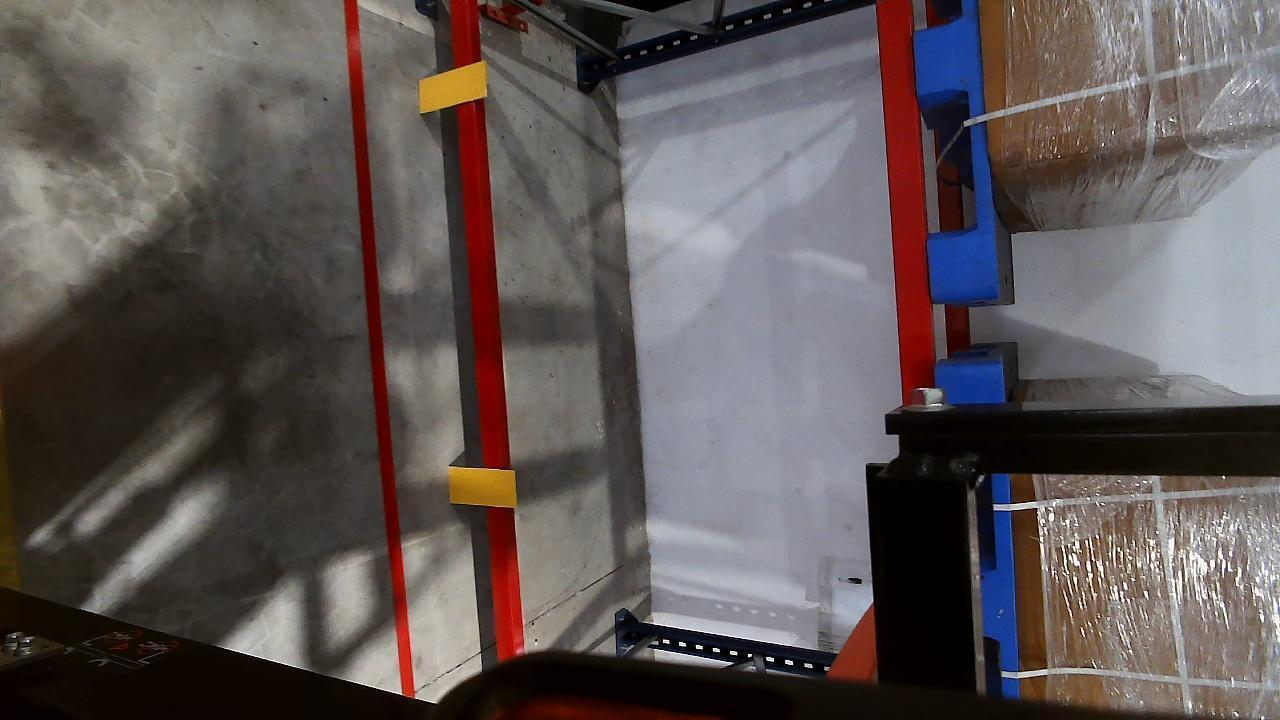red_line: (340, 0, 418, 698)
